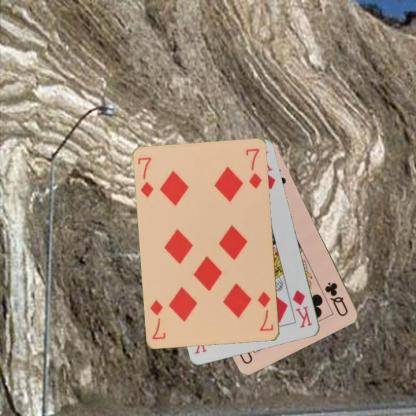7d: (255, 289, 275, 333), (136, 155, 155, 199)
Kd: (290, 287, 313, 329)
Qc: (322, 280, 350, 317)
